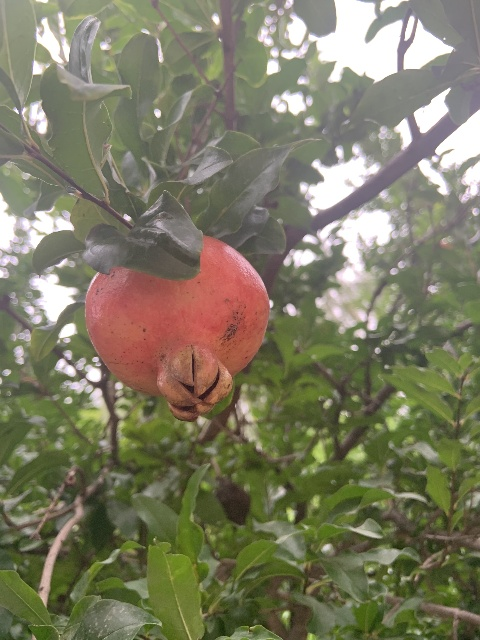ripe: (84, 235, 270, 420)
